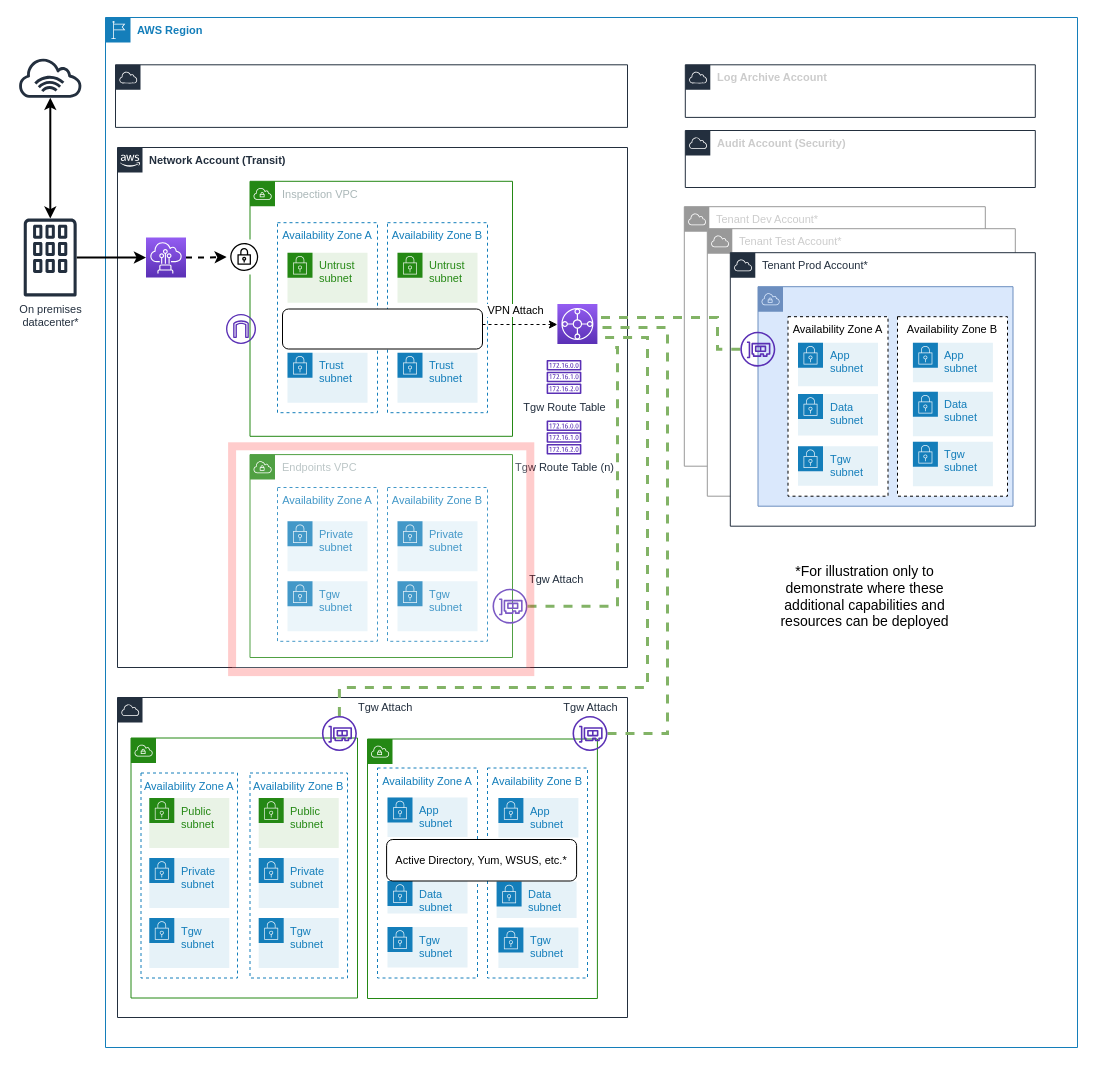
Some shapes in this 1095 by 1065 pixel diagram are drawn without their labels. The shapes that lost their labels are listed below. From the top down, each one's box as (x1, y1, x2, y2) in pixels, then its label:
(17, 57, 82, 97): Internet
(114, 64, 628, 127): Management Account (Central)
(145, 236, 186, 278): AWS Direct Connect Gateway*
(226, 238, 262, 274): Virtual Gateway
(226, 314, 256, 344): Internet Gateway
(282, 308, 482, 349): Next-Gen Firewall/WAF* Network IDS/IPS*
(556, 303, 597, 344): AWS Transit Gateway
(740, 331, 775, 366): Tgw Attach*
(757, 286, 1013, 506): Prod app VPC*
(130, 737, 358, 998): External Access VPC
(116, 696, 628, 1018): Shared Services Account
(366, 738, 597, 998): Shared Services VPC
